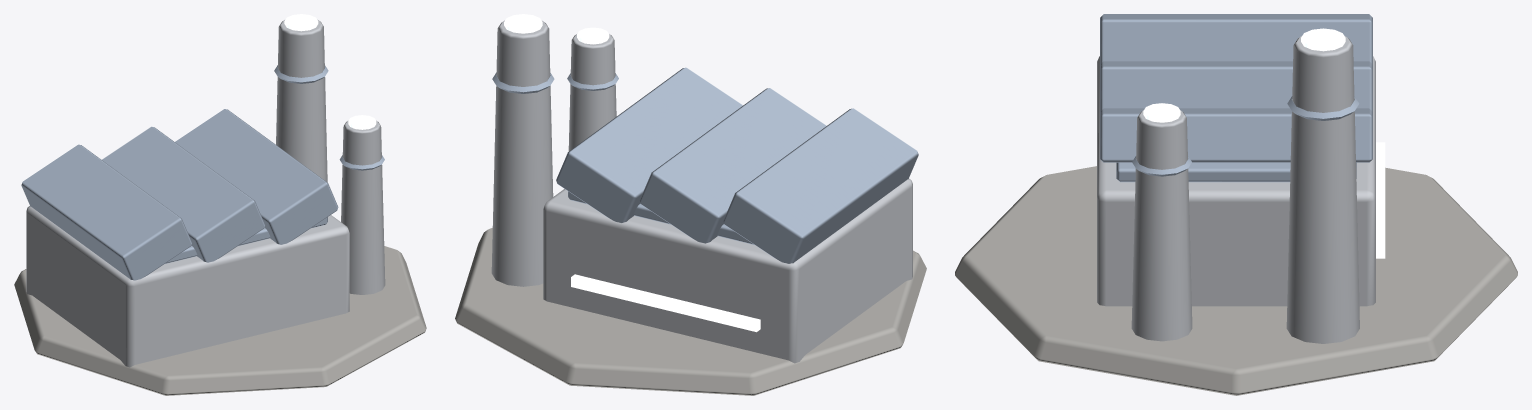
The model's file is industry.glb.
3 renders of one model, left to right at view 1: azimuth 30°, elevation 25°; view 2: azimuth 150°, elevation 25°; view 3: azimuth 270°, elevation 25°, orthographic. The views are drawn at different scales.
Parts seen in each view (by area): view 1: industry; view 2: industry; view 3: industry.
Boxes of the visible parts, x1=… form: industry: x1=14, y1=14, x2=426, y2=395; industry: x1=455, y1=14, x2=926, y2=395; industry: x1=955, y1=14, x2=1517, y2=395.
Size of the model in its own units: 0.907 by 0.557 by 0.907.
